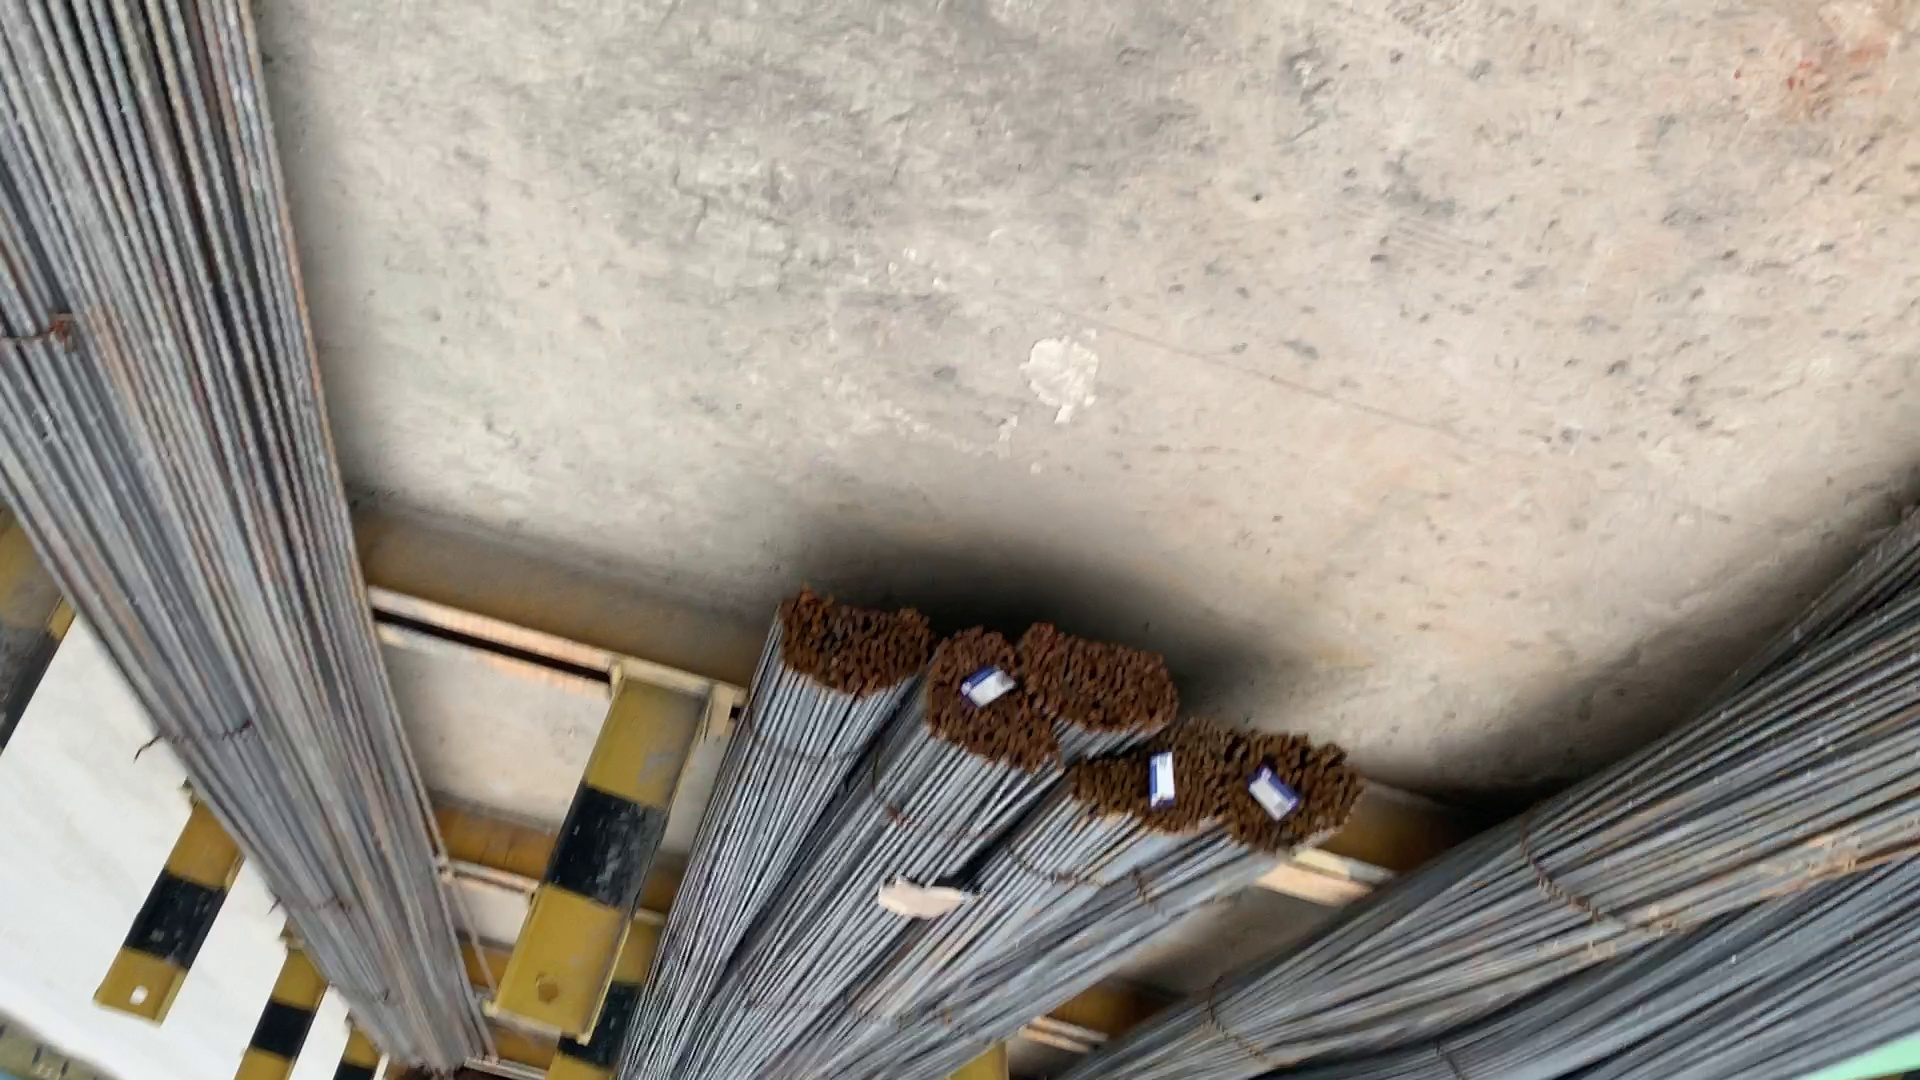rebar: (762, 584, 927, 698), (934, 632, 1048, 781), (1033, 626, 1184, 737), (1226, 738, 1366, 849), (1077, 749, 1220, 835)
